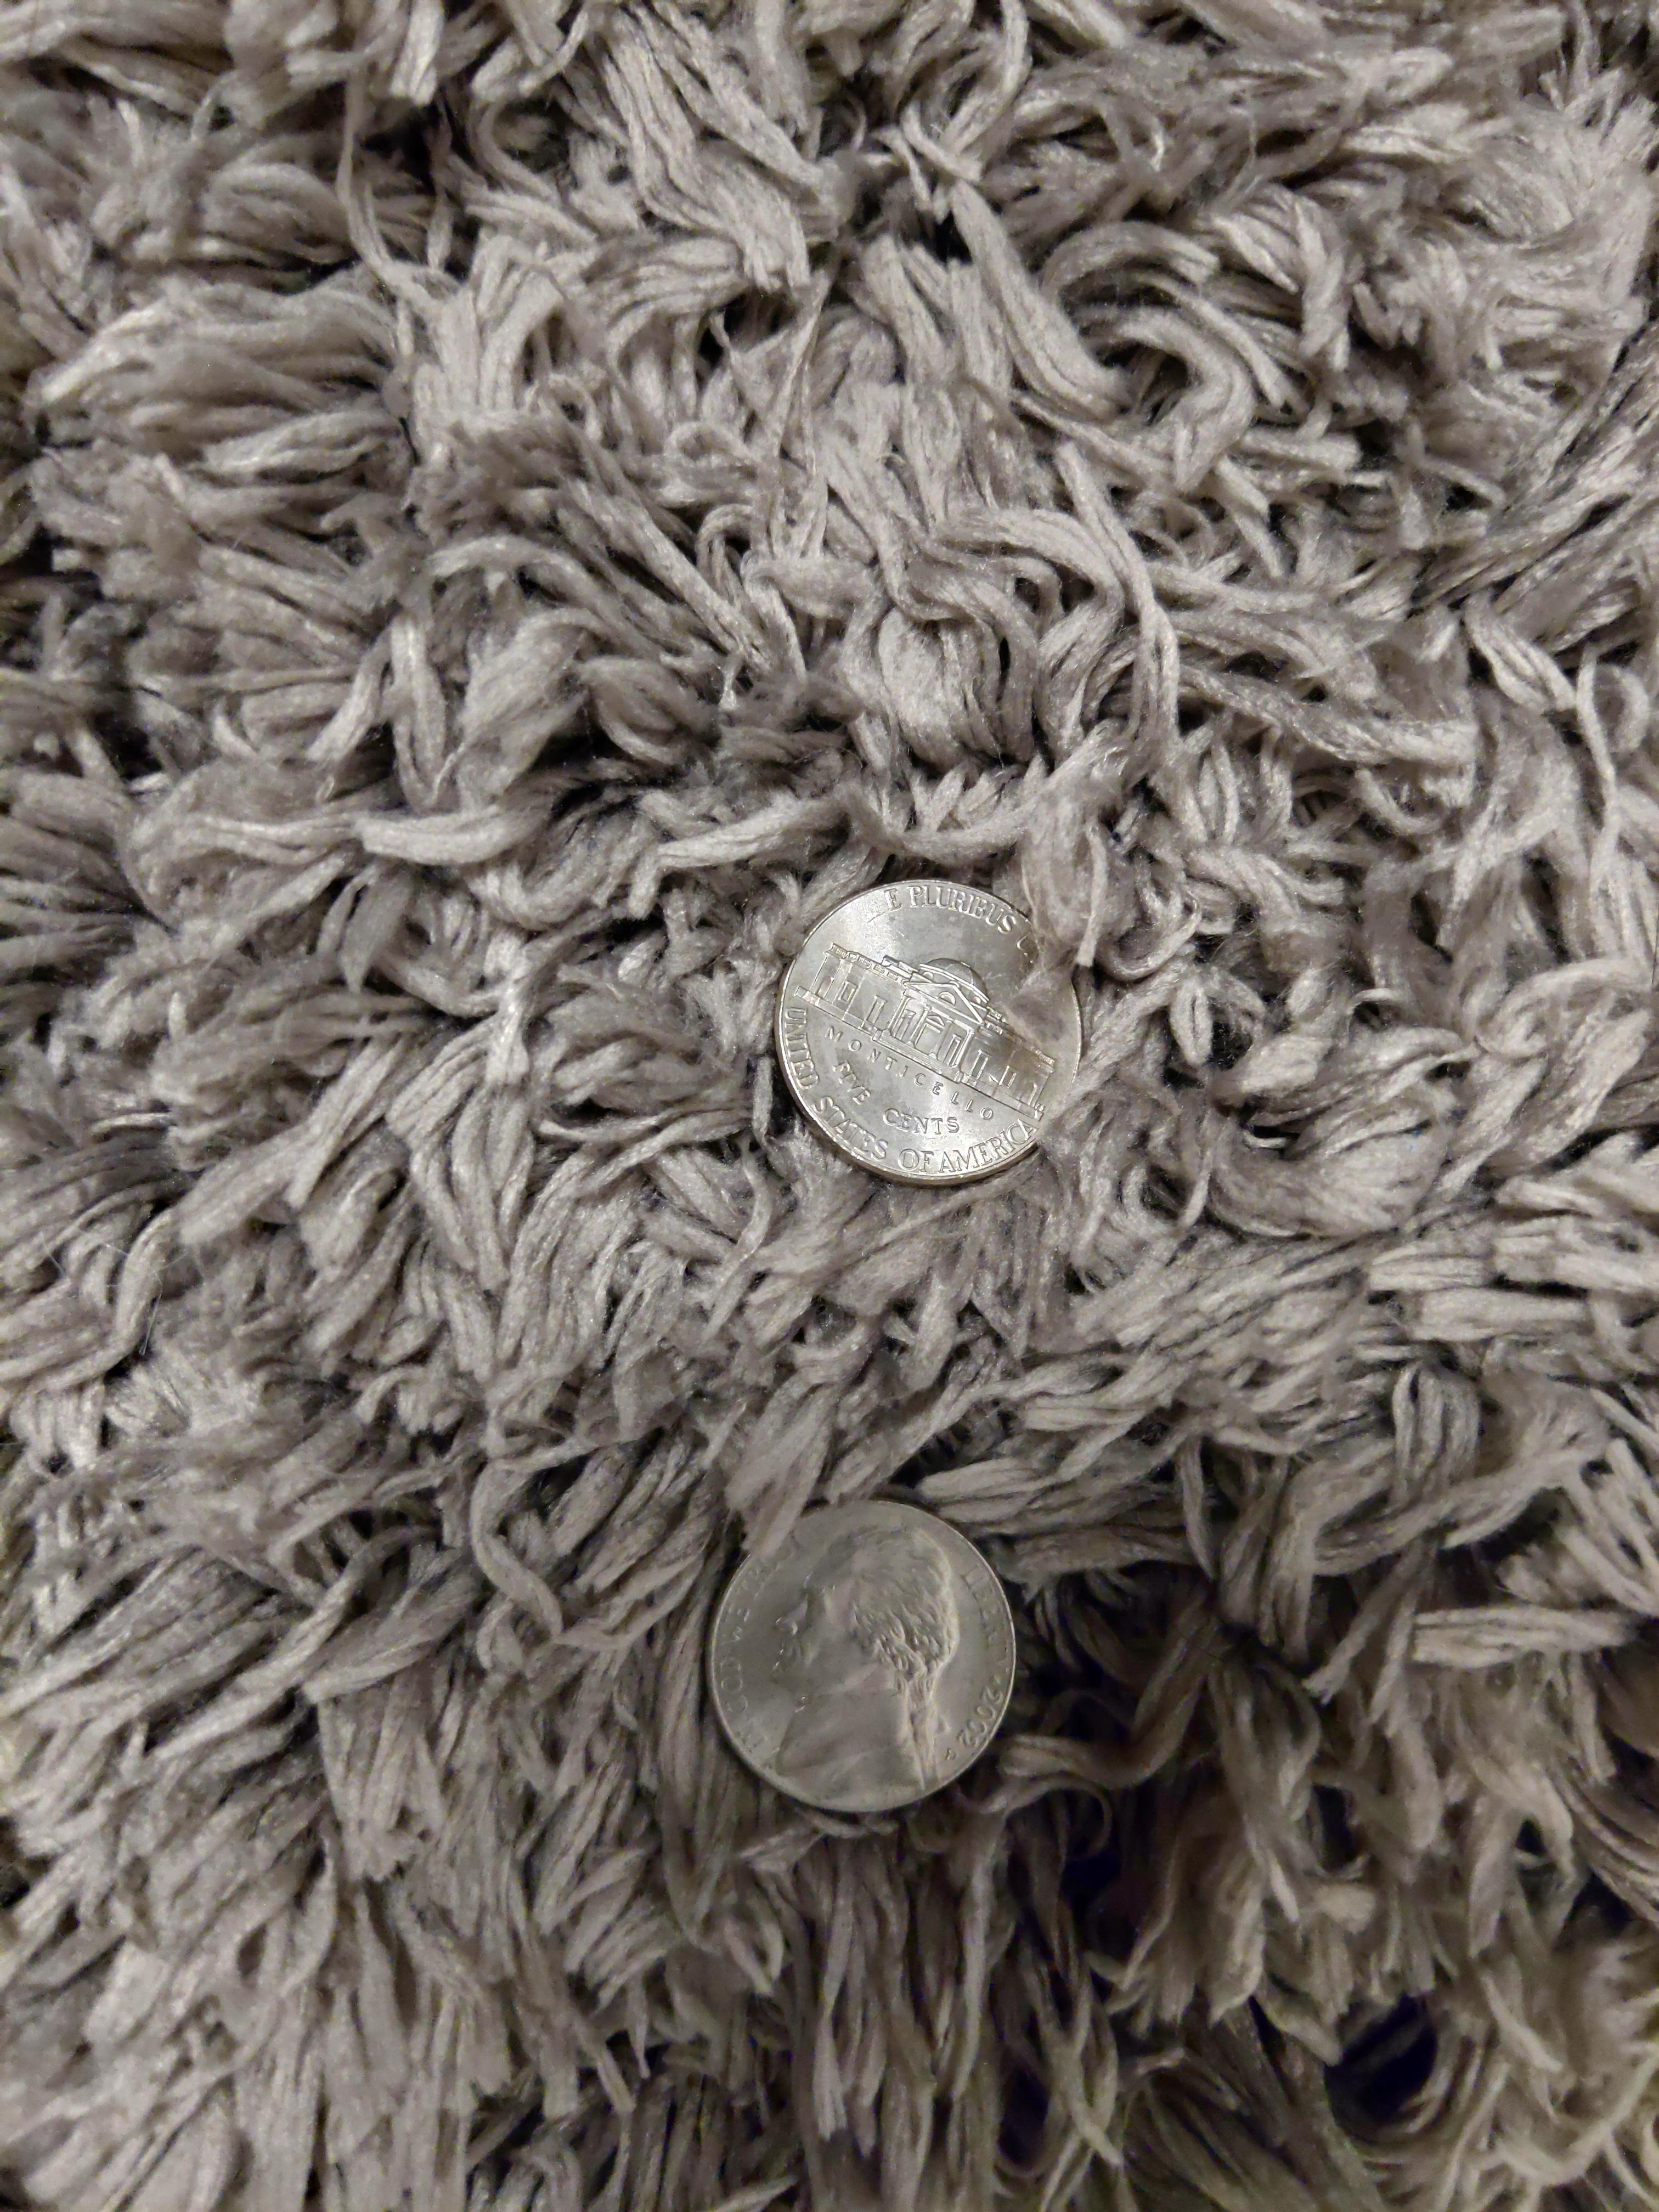Nickel: (706, 1494, 1019, 1820), (770, 876, 1082, 1188)
